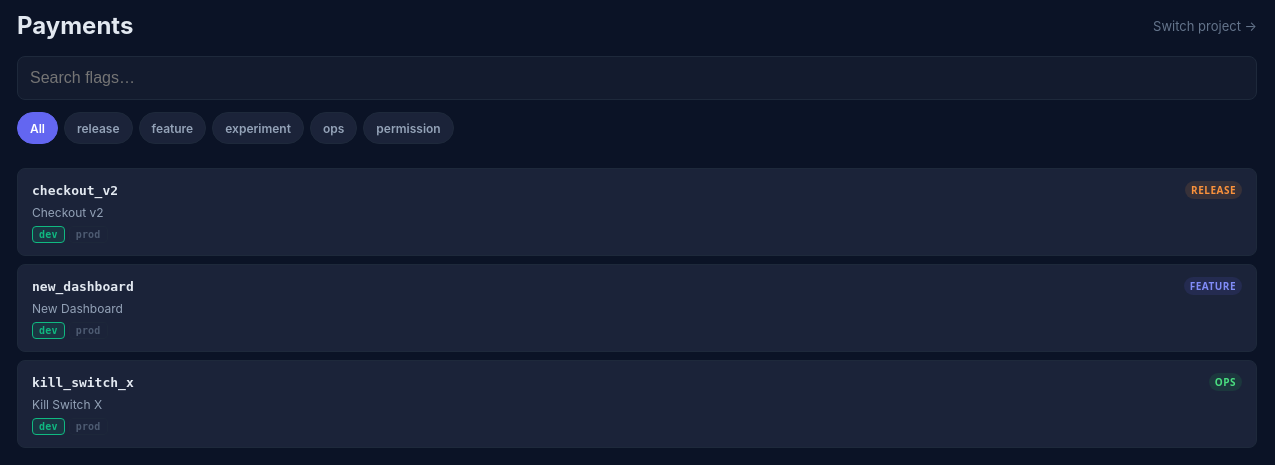
Test case: FlagListPage › search input filters rows by key/name (case-insensitive)
expect the text "checkout_v2" is shown: met, box [32,182,118,198]
Type "CHECKOUT" into the search field with placeholder "Search flags…" at (637, 78), box [17,56,1257,100]
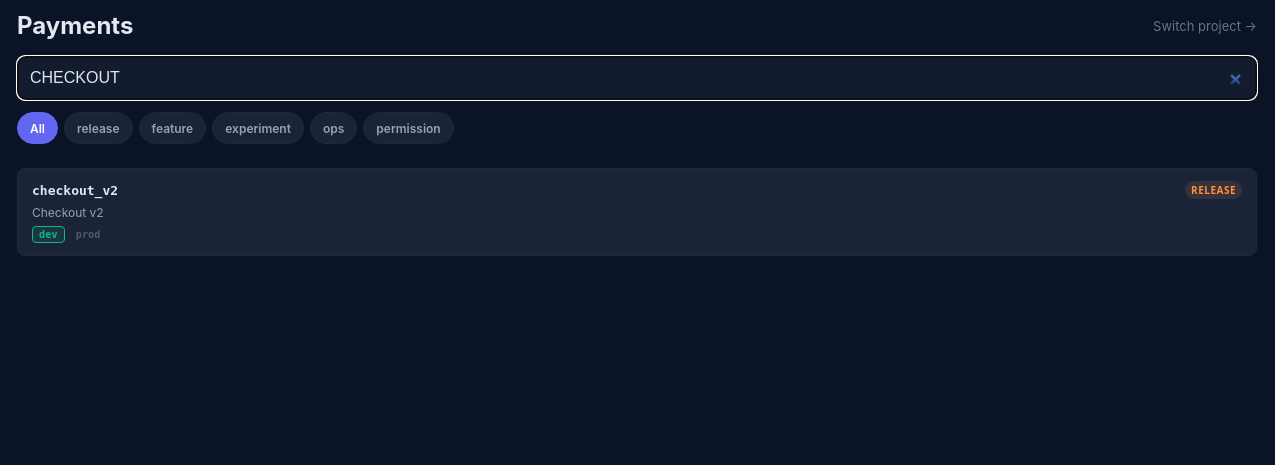
expect the text "checkout_v2" is shown: met, box [32,182,118,198]
expect the link "new_dashboard" is gone: met
expect the link "kill_switch_x" is gone: met
